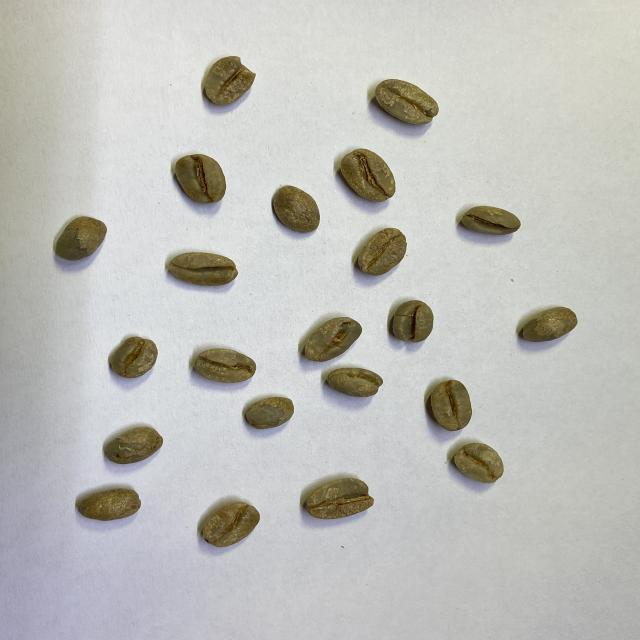bad: (201, 55, 257, 108), (298, 316, 363, 360), (460, 203, 523, 237), (325, 366, 383, 399)
good: (372, 78, 441, 127), (300, 478, 374, 520), (342, 147, 397, 203), (198, 500, 262, 547), (173, 153, 228, 205), (164, 250, 239, 286), (353, 227, 409, 274), (190, 346, 257, 385), (269, 184, 321, 233), (429, 378, 475, 432), (57, 215, 107, 264), (517, 306, 579, 344), (102, 424, 164, 462), (452, 440, 505, 484), (75, 486, 142, 520), (388, 298, 436, 344), (108, 334, 157, 379), (243, 394, 295, 429)
